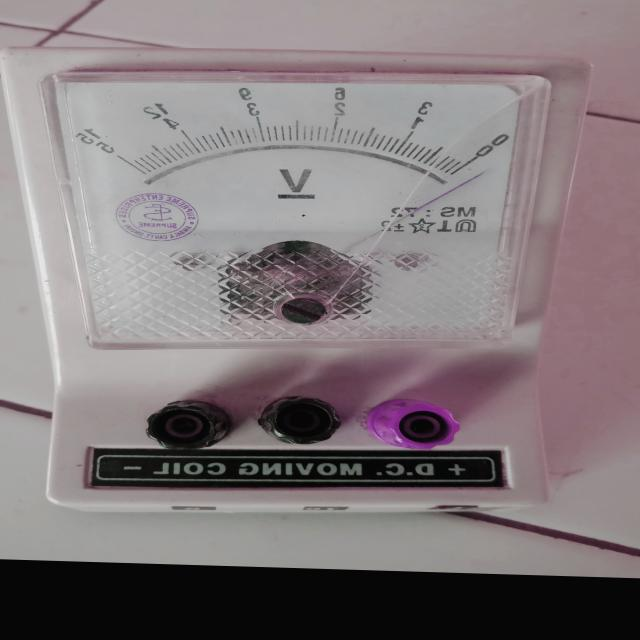Analog Voltmeter: (0, 36, 600, 539)
